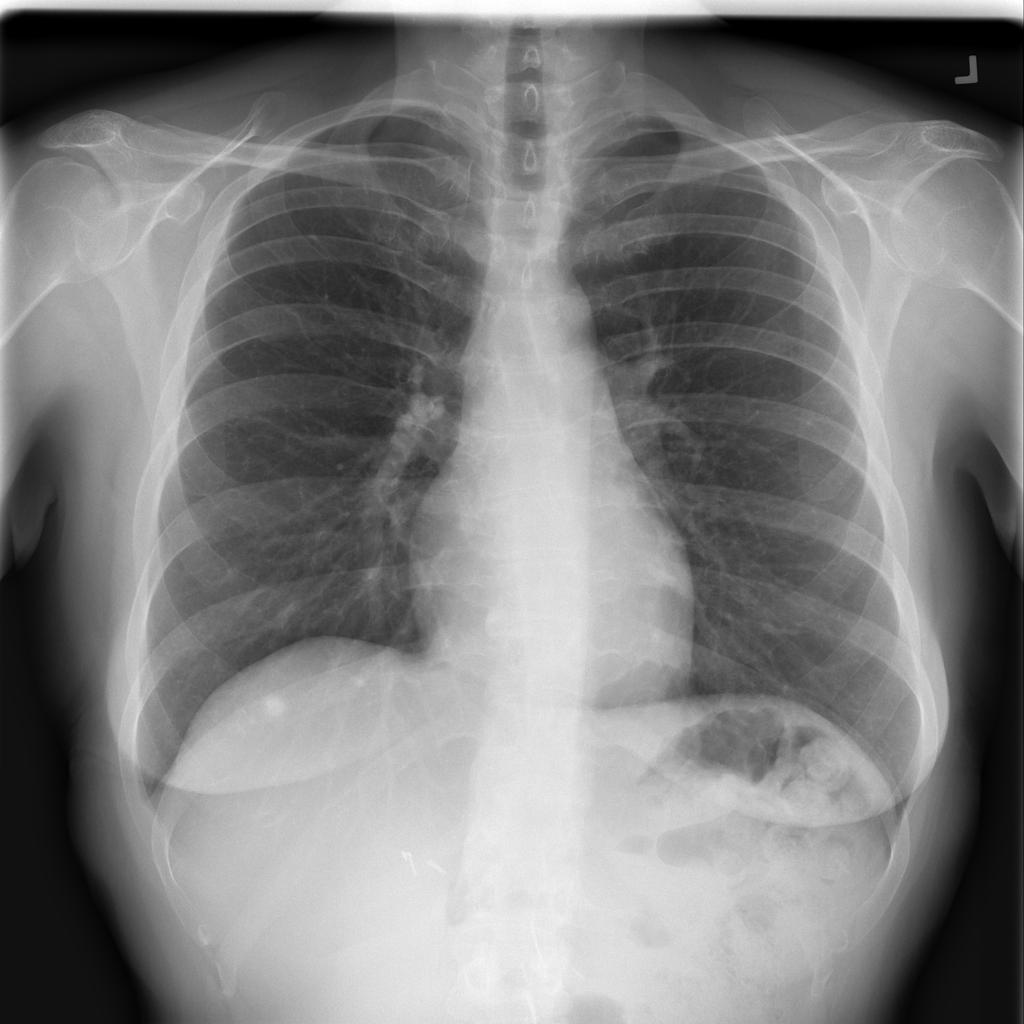nodule: (232, 670, 310, 740)
